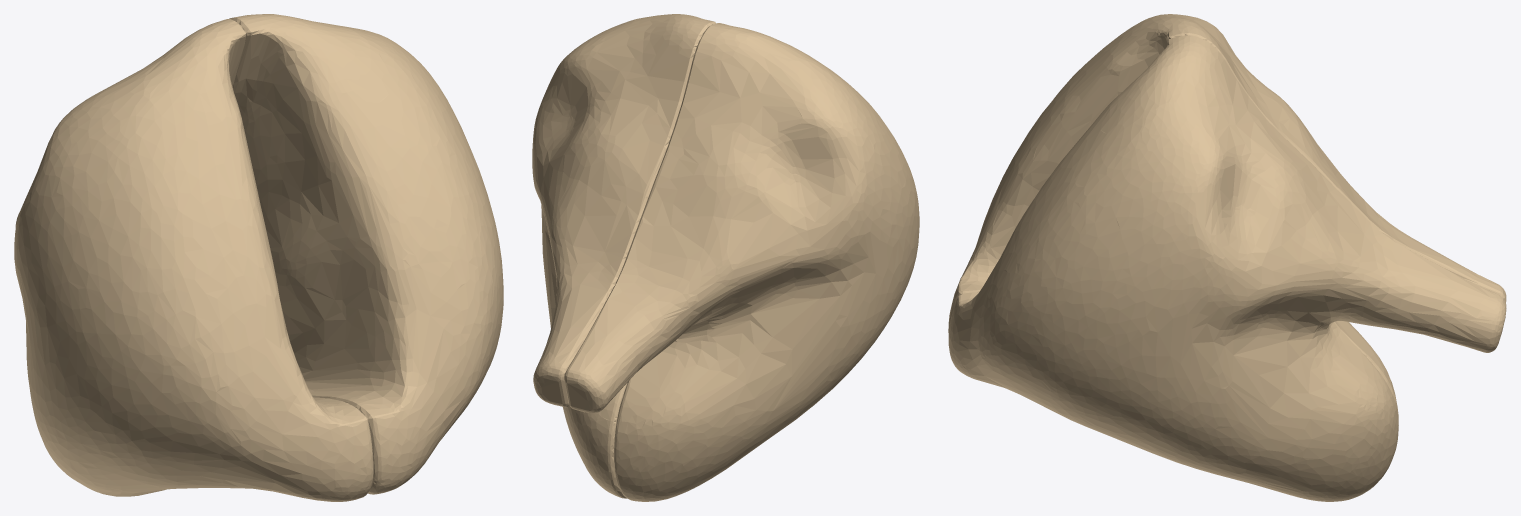
Rendered from hypothalamus.glb.
3 views of the same model, side by side, from view 1: azimuth 30°, elevation 25°; view 2: azimuth 150°, elevation 25°; view 3: azimuth 270°, elevation 25° (orthographic). The views are drawn at different scales.
Visible parts, largest first — view 1: world; view 2: world; view 3: world.
Part boxes in pixels (x1,y1,x2,y2): world: [14, 14, 503, 501]; world: [532, 14, 919, 501]; world: [948, 14, 1506, 501].
Size of the model in its own units: 1.53 by 1.81 by 2.
